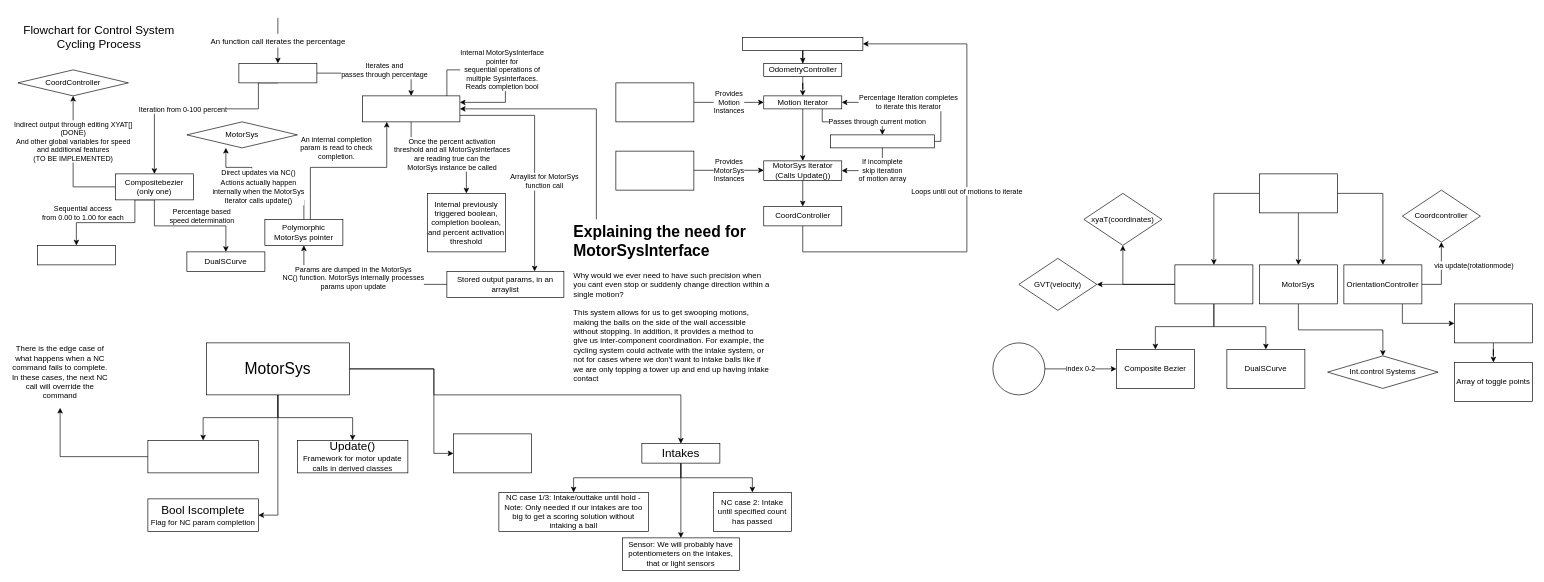
Some shapes in this 1544 by 582 pixel diagram are drawn without their labels. The shapes that lost their labels are listed below. From the top down, each one's centre as x and y in pixels, then its label:
(802,43): Autonomous Loop Structure
(277,73): Motion Object
(411,108): MotorSysInterface (In an array)
(654,102): Motion Array
(882,141): Motion Percent Iterator
(654,170): MotorSys Array
(1298,193): Motion
(76,255): BezierNP Array
(1213,284): Composite Speed Controller
(1493,323): Orientation
(1018,368): Coordinates
(202,456): NC(Arraylist A) Framework for parameter updates in derived classes
(492,453): Cycling System
